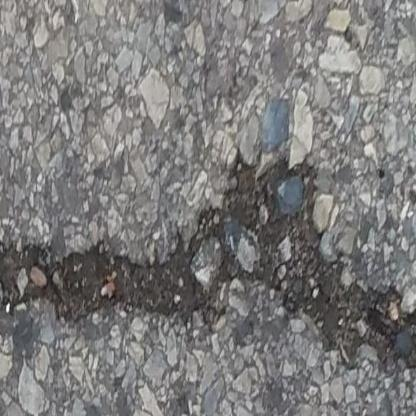Cracks: (0, 165, 416, 390)
